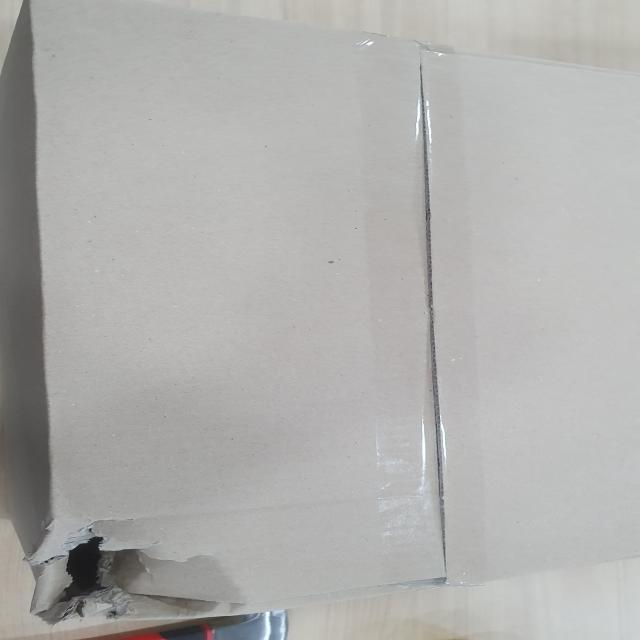hole: (26, 533, 250, 627)
